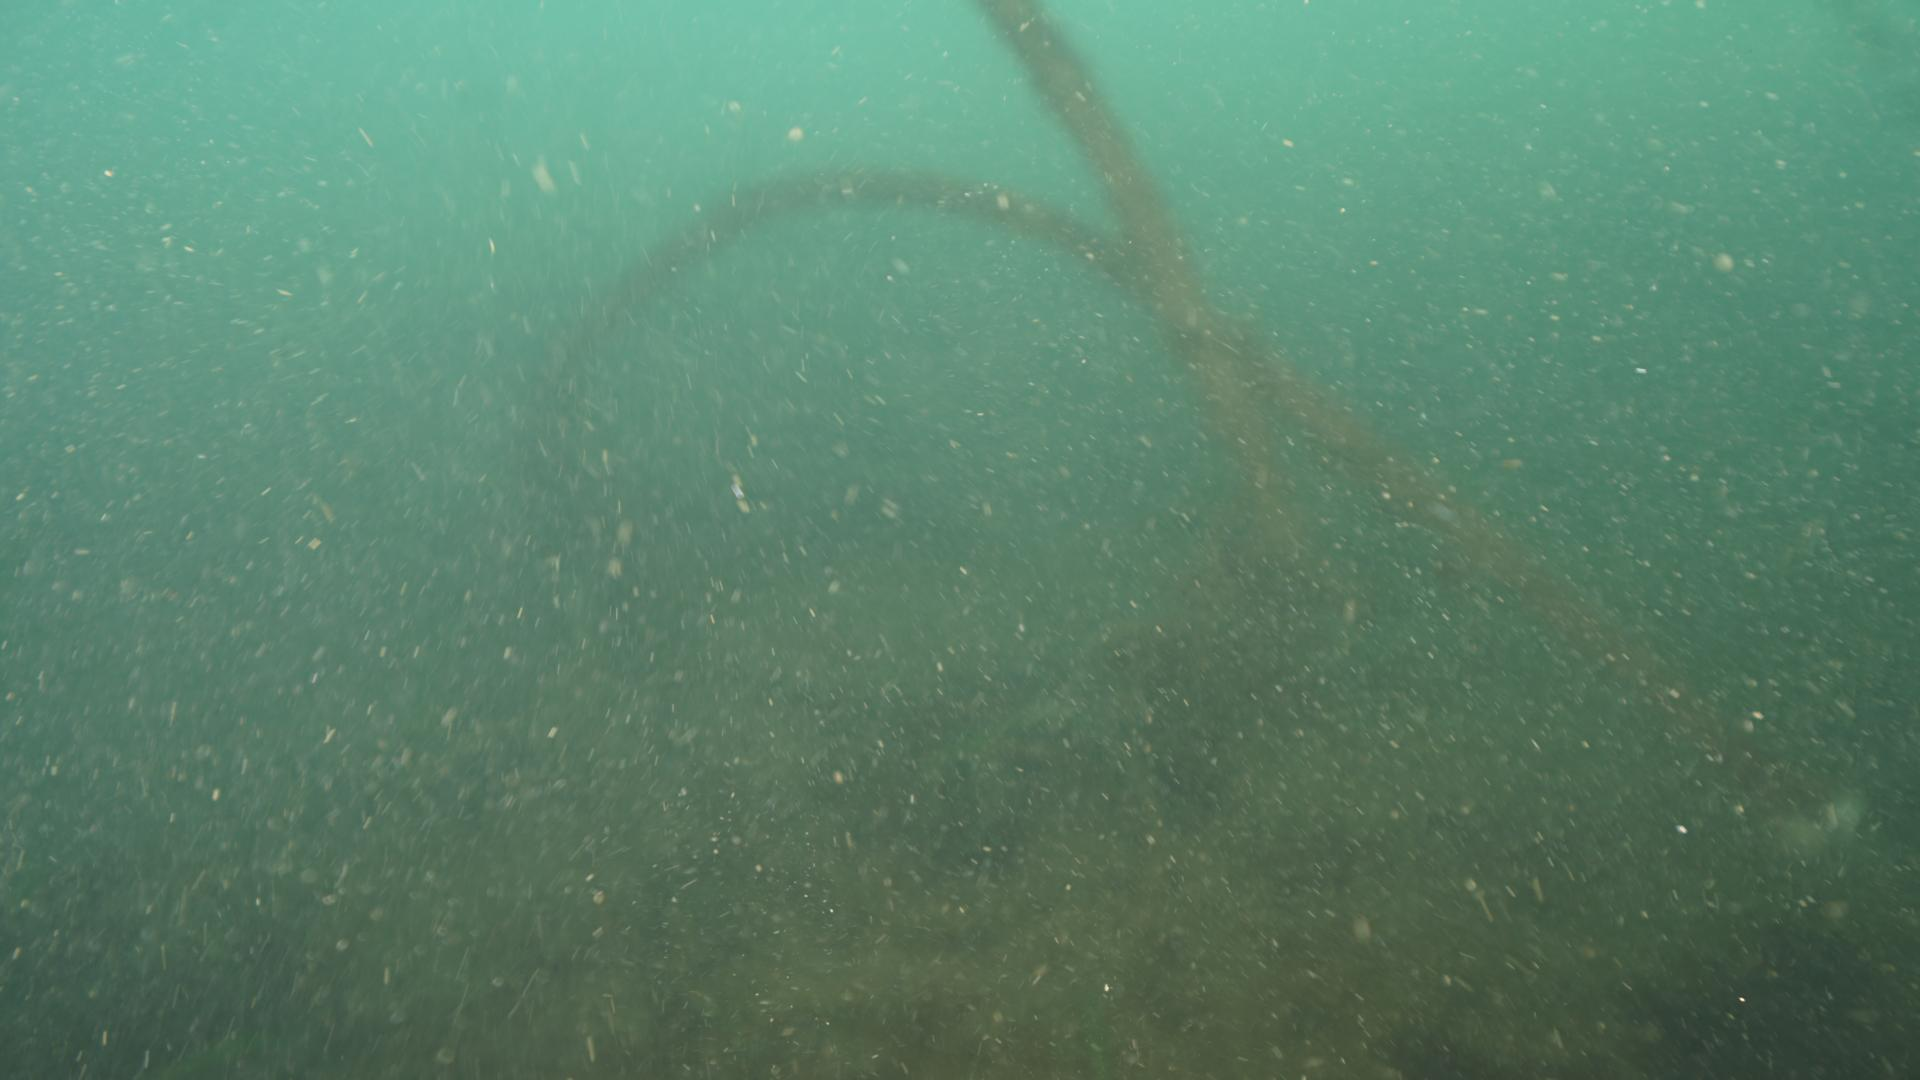rope: (535, 161, 1853, 840), (967, 0, 1329, 644)
